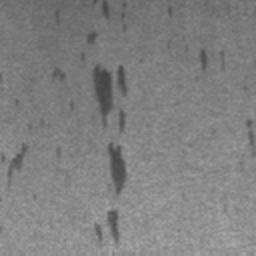Red iron sheet: (79, 31, 129, 195), (0, 143, 29, 182), (93, 210, 119, 243), (101, 0, 127, 32), (246, 118, 256, 157), (198, 49, 209, 70), (51, 67, 65, 81), (166, 5, 173, 17), (56, 147, 61, 159), (69, 100, 74, 110)
